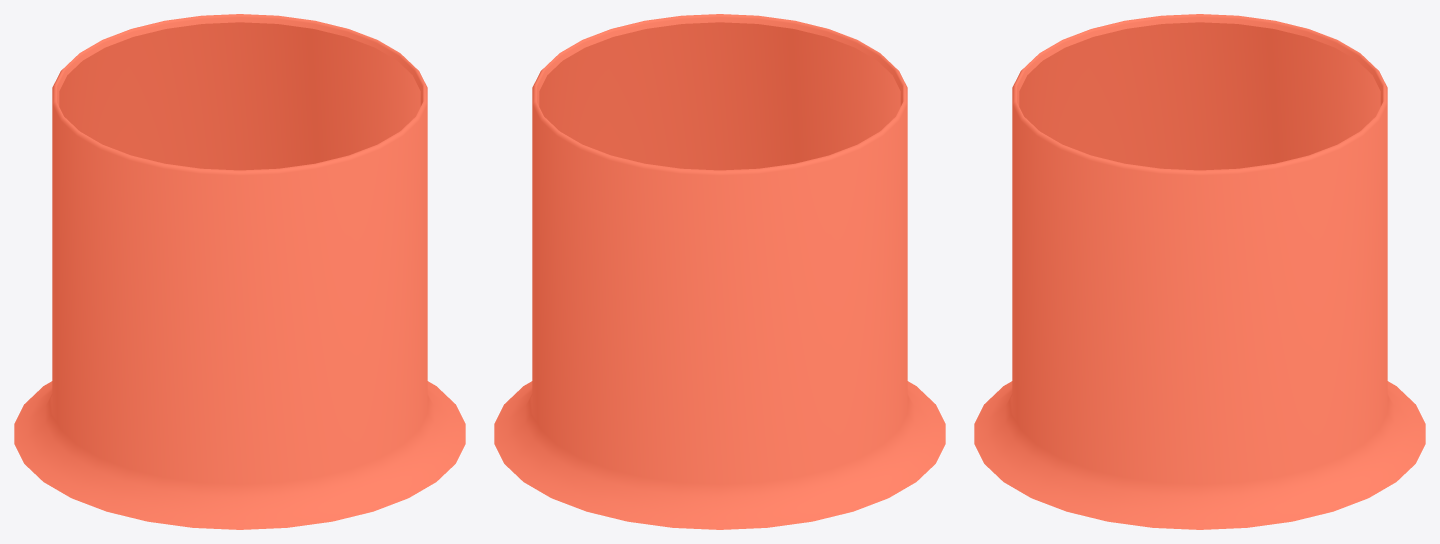
The model's file is SM_CylinderWithBeveledTops.FBX.
3 views of the same model, side by side, from view 1: azimuth 30°, elevation 25°; view 2: azimuth 150°, elevation 25°; view 3: azimuth 270°, elevation 25° (orthographic).
Visible parts, largest first — view 1: SM_CylinderWithBeveledTops; view 2: SM_CylinderWithBeveledTops; view 3: SM_CylinderWithBeveledTops.
Part boxes in pixels (box(x1,y1,x2,y2)): SM_CylinderWithBeveledTops: box(14, 14, 465, 529); SM_CylinderWithBeveledTops: box(494, 14, 945, 529); SM_CylinderWithBeveledTops: box(974, 14, 1425, 529).
Size of the model in its own units: 120 by 120 by 100.
